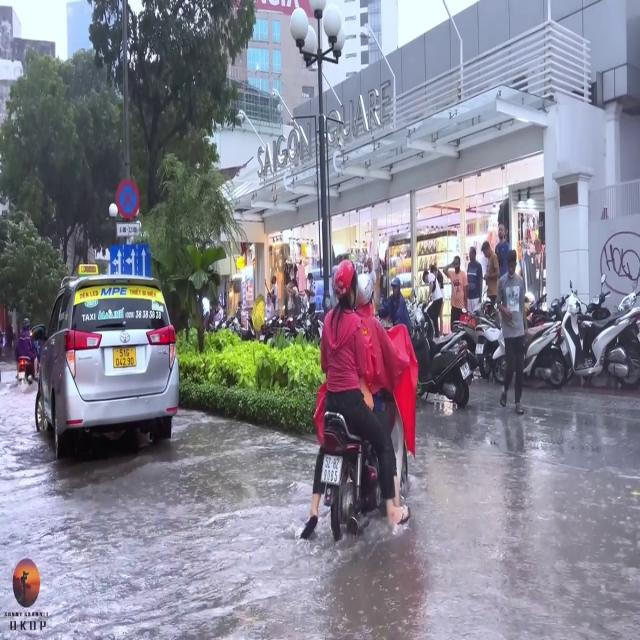bien_trang: (322, 453, 342, 489)
bien_vang: (113, 344, 137, 368)
